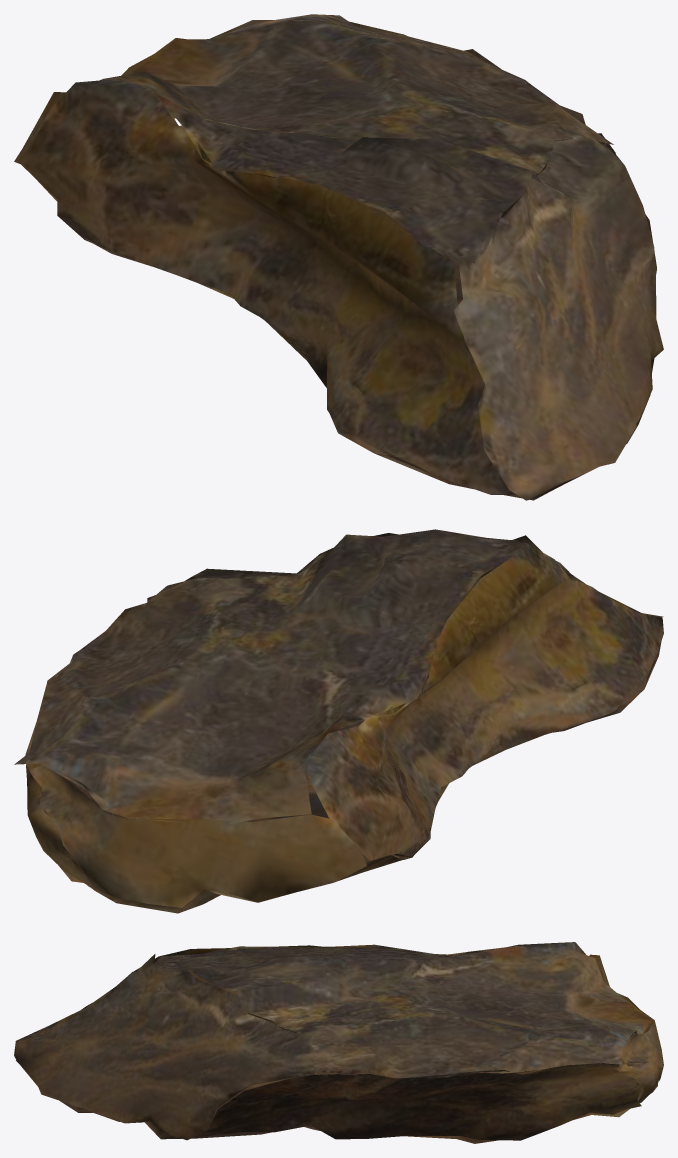
File: rock_09.glb
The picture shows the model from 3 angles, top to bottom: view 1: azimuth 30°, elevation 25°; view 2: azimuth 150°, elevation 25°; view 3: azimuth 270°, elevation 25°; orthographic projection. The views are drawn at different scales.
Parts seen in each view (by area): view 1: lod0; view 2: lod0; view 3: lod0.
Part boxes in pixels (x1=…): lod0: x1=14, y1=14, x2=663, y2=500; lod0: x1=14, y1=529, x2=663, y2=913; lod0: x1=14, y1=942, x2=663, y2=1143.
Size of what is drawn, in the model's own units: 0.0743 by 0.0337 by 0.1441.
1 material, 1 textured.
